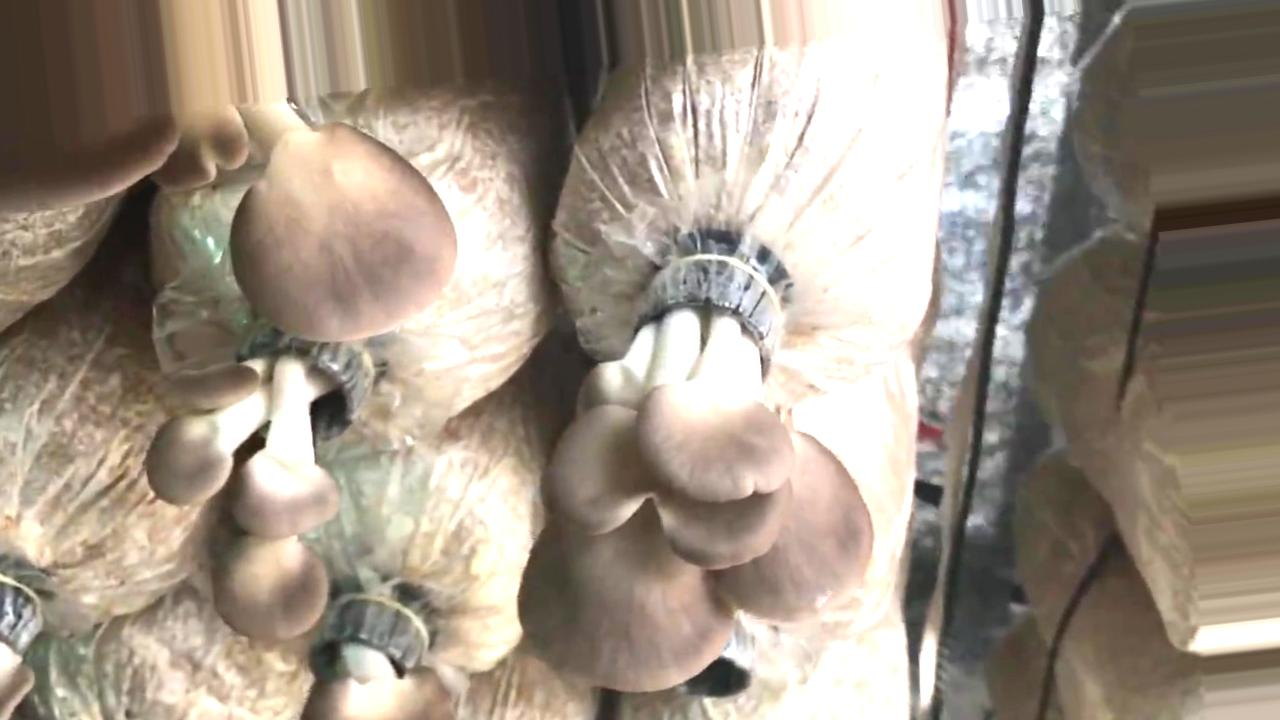nam: (4, 1, 461, 345), (520, 260, 870, 691), (142, 327, 374, 637), (306, 598, 451, 720)
